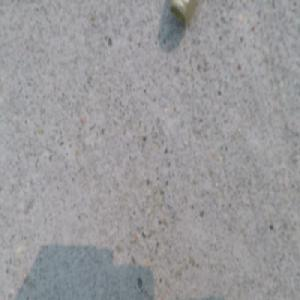BoltNutSet: (170, 1, 195, 23)
